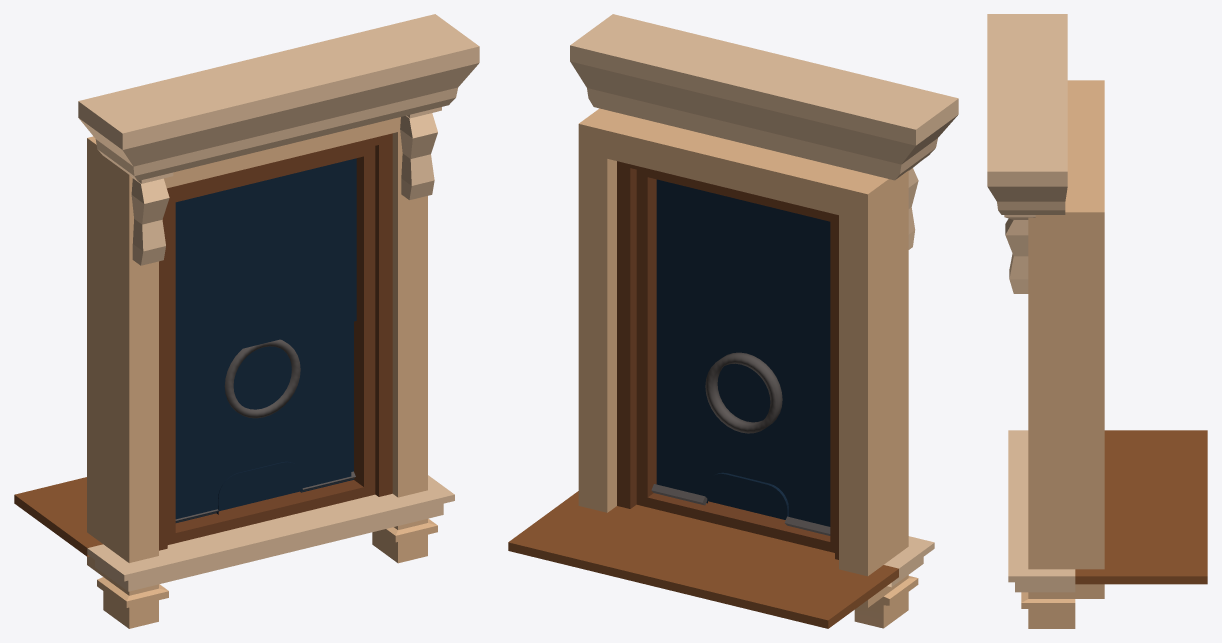
The model's file is window_square_variant.fbx.
3 renders of one model, left to right at view 1: azimuth 30°, elevation 25°; view 2: azimuth 150°, elevation 25°; view 3: azimuth 270°, elevation 25°, orthographic. The views are drawn at different scales.
Visible parts, largest first — view 1: window-square-a-steampunk Variant, window-square-a-steampunk Variant.002, window-square-a-steampunk Variant.009; view 2: window-square-a-steampunk Variant, window-square-a-steampunk Variant.009, window-square-a-steampunk Variant.002; view 3: window-square-a-steampunk Variant.
Part boxes in pixels (x1=…): window-square-a-steampunk Variant: x1=14, y1=14, x2=479, y2=628; window-square-a-steampunk Variant.002: x1=175, y1=158, x2=356, y2=521; window-square-a-steampunk Variant.009: x1=175, y1=202, x2=353, y2=522; window-square-a-steampunk Variant: x1=508, y1=14, x2=958, y2=628; window-square-a-steampunk Variant.009: x1=656, y1=179, x2=830, y2=516; window-square-a-steampunk Variant.002: x1=660, y1=332, x2=830, y2=526; window-square-a-steampunk Variant: x1=987, y1=14, x2=1207, y2=628.
Bounding box in the file's own units: 194 × 270 × 115.
